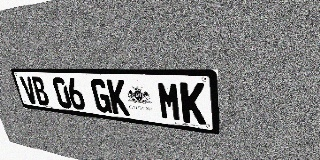0: (51, 77, 73, 109)
6: (65, 78, 87, 110)
B: (30, 77, 51, 106)
G: (90, 79, 113, 114)
K: (180, 82, 206, 125), (106, 79, 130, 116)
M: (156, 81, 182, 122)
V: (19, 76, 39, 105)
